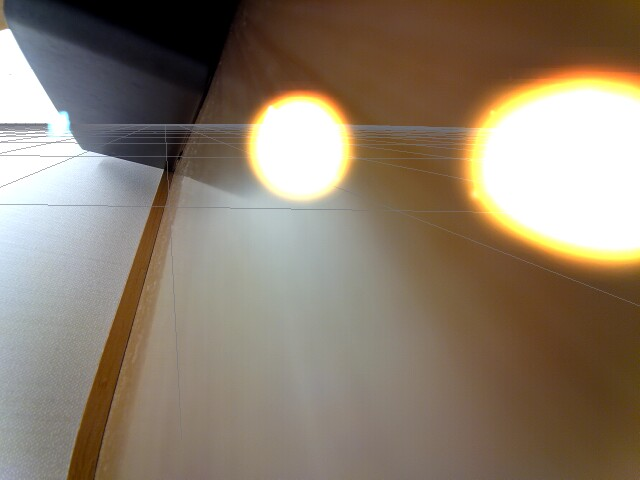firebig: (462, 66, 640, 282)
